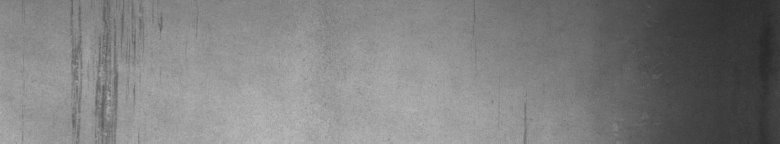ka: (71, 4, 162, 136)
